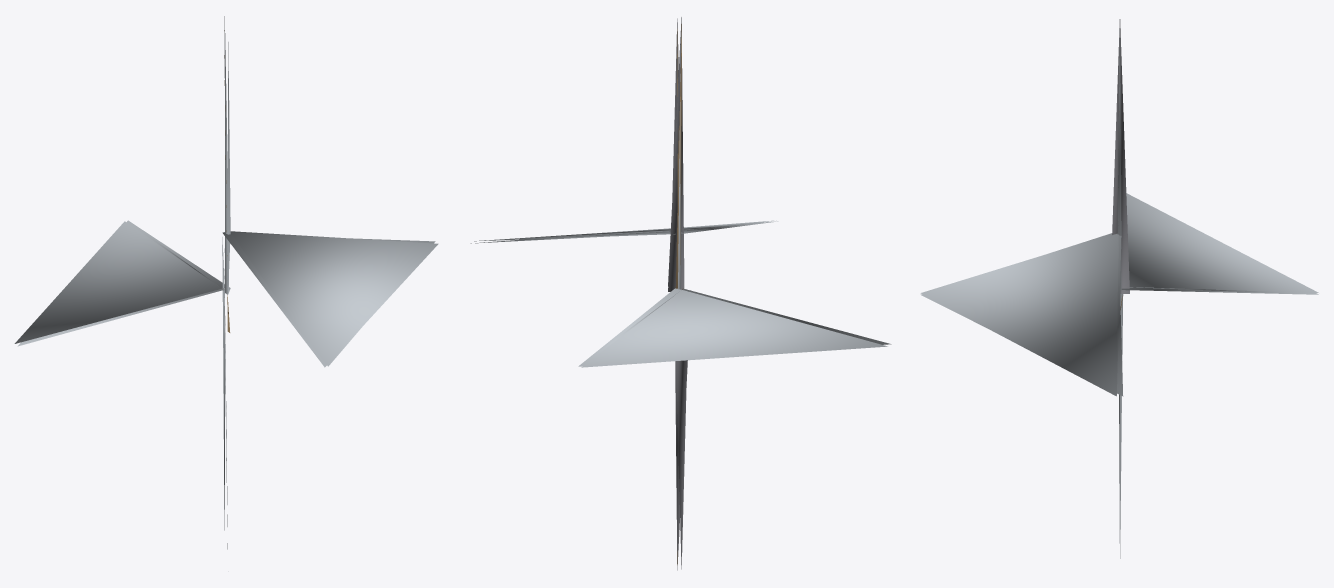
File: equip_weapon_steel_longsword.glb
The picture shows the model from 3 angles, left to right: view 1: azimuth 30°, elevation 25°; view 2: azimuth 150°, elevation 25°; view 3: azimuth 270°, elevation 25°; orthographic projection.
Visible parts, largest first — view 1: equip_weapon_steel_longsword; view 2: equip_weapon_steel_longsword; view 3: equip_weapon_steel_longsword.
Boxes of the visible parts, x1,y1,x2,y2 form: equip_weapon_steel_longsword: (14, 16, 438, 549); equip_weapon_steel_longsword: (470, 17, 891, 570); equip_weapon_steel_longsword: (920, 19, 1318, 558).
Bounding box in the file's own units: 1.8 × 2.28 × 1.48.
